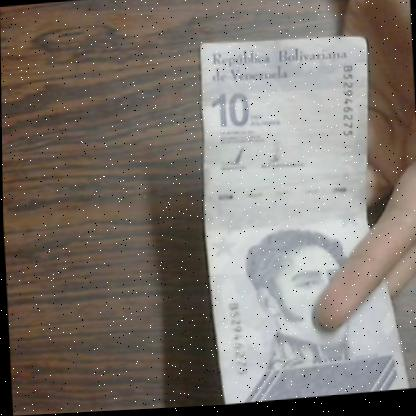ten-front-vef: (194, 31, 392, 408)
